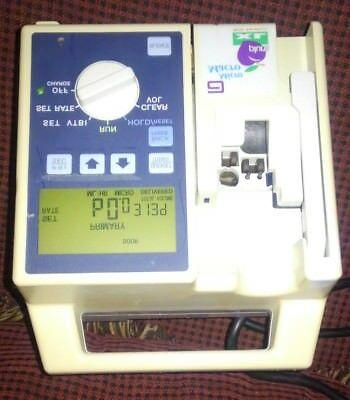plumxl1: (13, 18, 344, 375)
